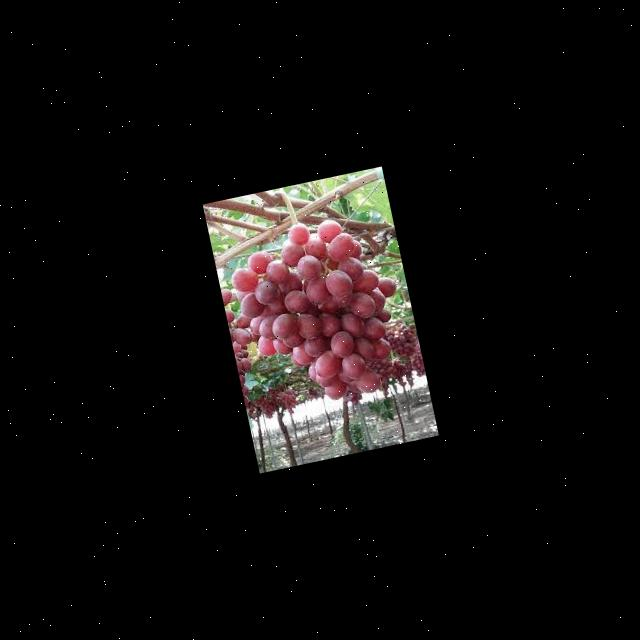grape: (210, 203, 427, 426)
